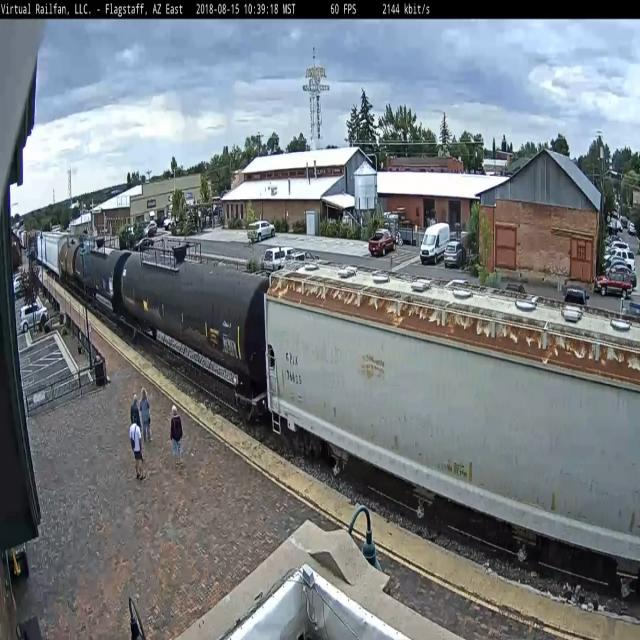hopper: (256, 248, 640, 620)
tank: (119, 239, 268, 411)
